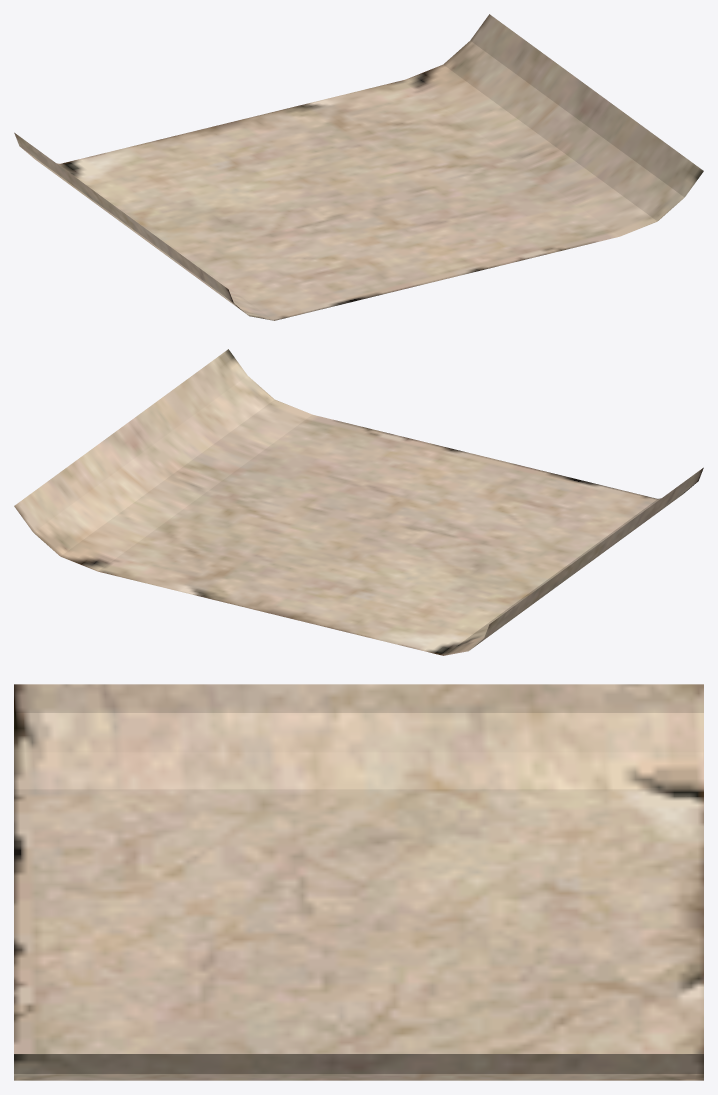
The model's file is stsi4.dae.
The picture shows the model from 3 angles, top to bottom: view 1: azimuth 30°, elevation 25°; view 2: azimuth 150°, elevation 25°; view 3: azimuth 270°, elevation 25°; orthographic projection. The views are drawn at different scales.
Parts seen in each view (by area): view 1: letter; view 2: letter; view 3: letter.
Part boxes in pixels (x1,y1,x2,y2): letter: (14, 14, 703, 320); letter: (14, 349, 703, 655); letter: (14, 684, 703, 1080).
Size of the model in its own units: 0.1729 by 0.1351 by 0.0157.
Materials: 1 (1 with a texture image).
